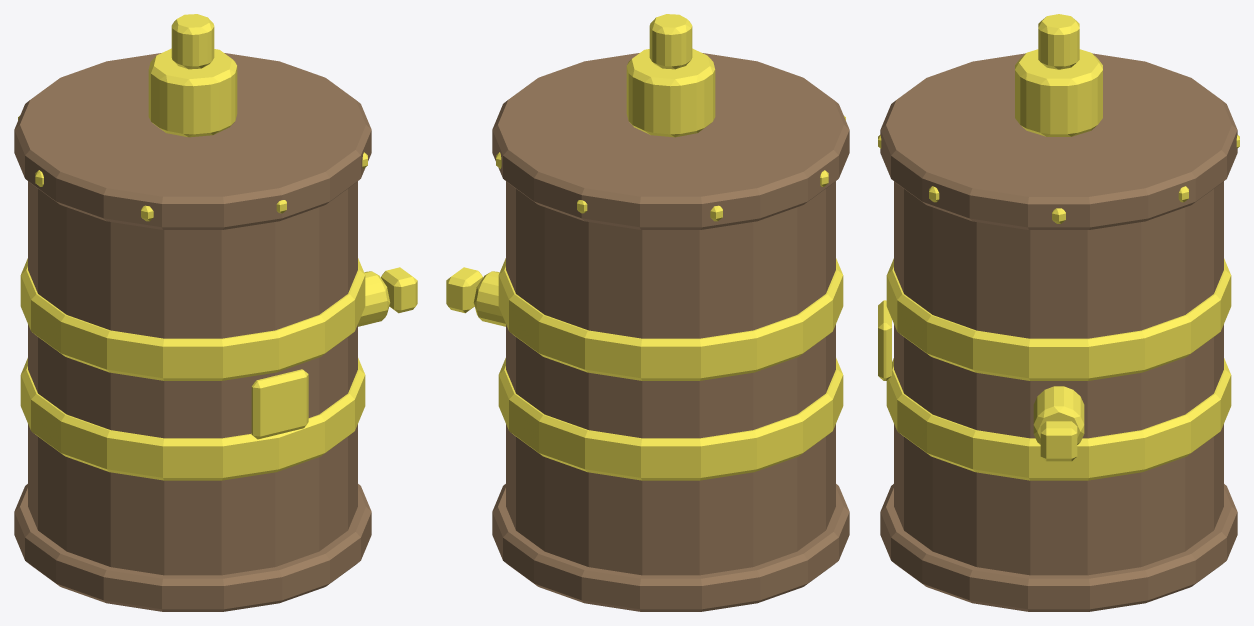
File: PU_Nuke.fbx
3 renders of one model, left to right at view 1: azimuth 30°, elevation 25°; view 2: azimuth 150°, elevation 25°; view 3: azimuth 270°, elevation 25°, orthographic.
Parts seen in each view (by area): view 1: PU_Nuke; view 2: PU_Nuke; view 3: PU_Nuke.
Part boxes in pixels (<box>): PU_Nuke: <box>14,14,417,611</box>; PU_Nuke: <box>446,14,849,611</box>; PU_Nuke: <box>878,14,1239,611</box>.
Size of the model in its own units: 0.4168 by 0.55 by 0.3476.
